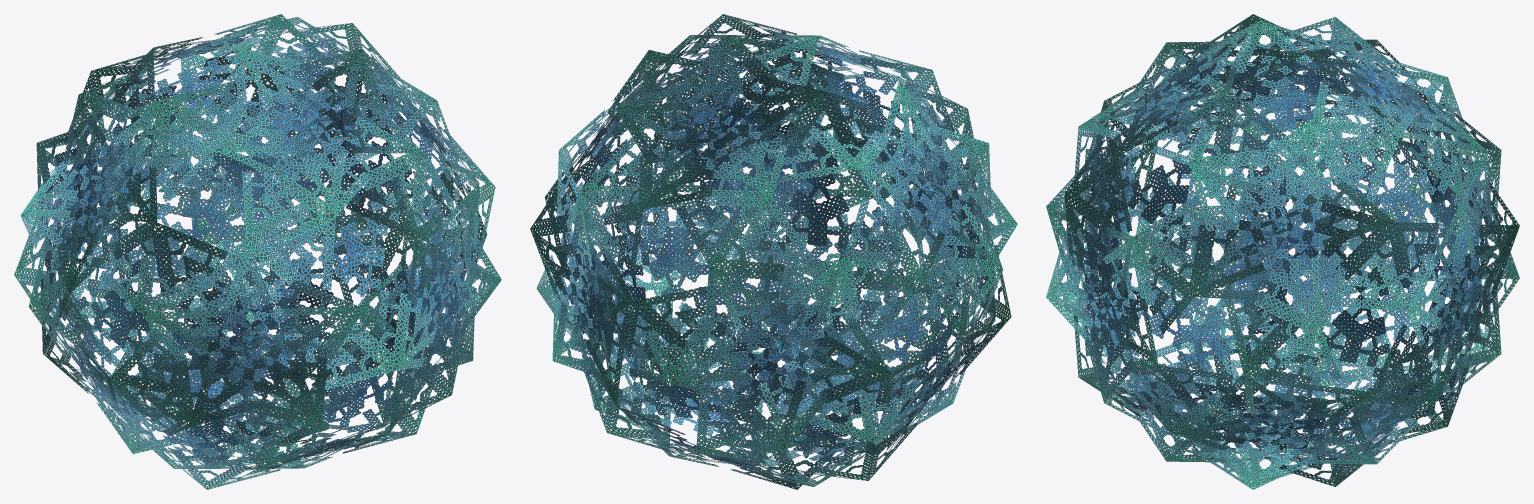
Rendered from 17SnubIcosidodecadodecahedron.gltf.
The picture shows the model from 3 angles, left to right: view 1: azimuth 30°, elevation 25°; view 2: azimuth 150°, elevation 25°; view 3: azimuth 270°, elevation 25°; orthographic projection.
Parts seen in each view (by area): view 1: 16SnubIcosidodecadodecahedron; view 2: 16SnubIcosidodecadodecahedron; view 3: 16SnubIcosidodecadodecahedron.
Part boxes in pixels (x1,y1,x2,y2): 16SnubIcosidodecadodecahedron: (14, 14, 501, 489); 16SnubIcosidodecadodecahedron: (530, 14, 1017, 489); 16SnubIcosidodecadodecahedron: (1046, 14, 1519, 489).
Size of the model in its own units: 2.21 by 2.21 by 2.21.
1 material, 1 textured.
